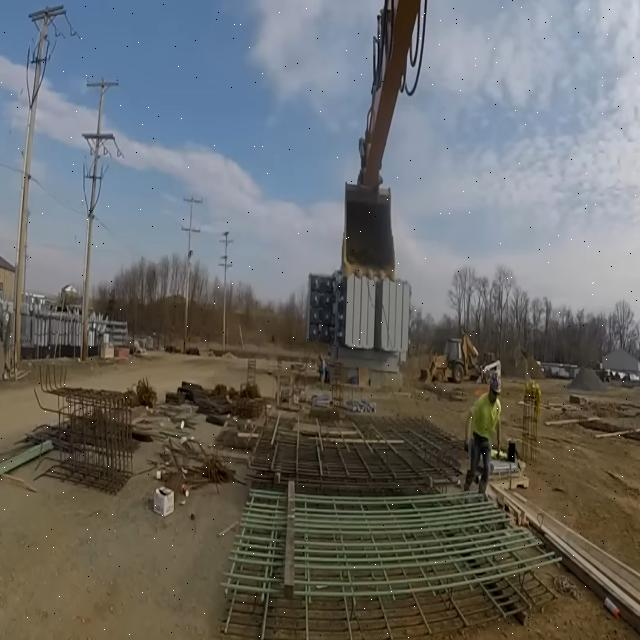standing: (464, 374, 501, 493)
